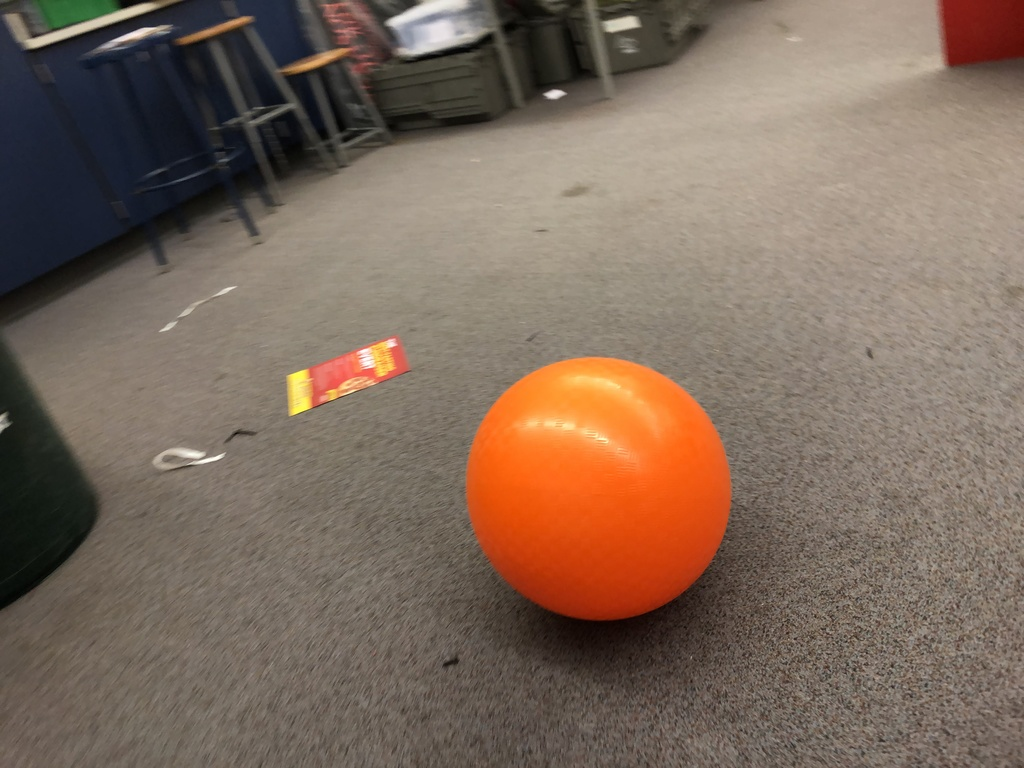cargo: (462, 351, 738, 635)
